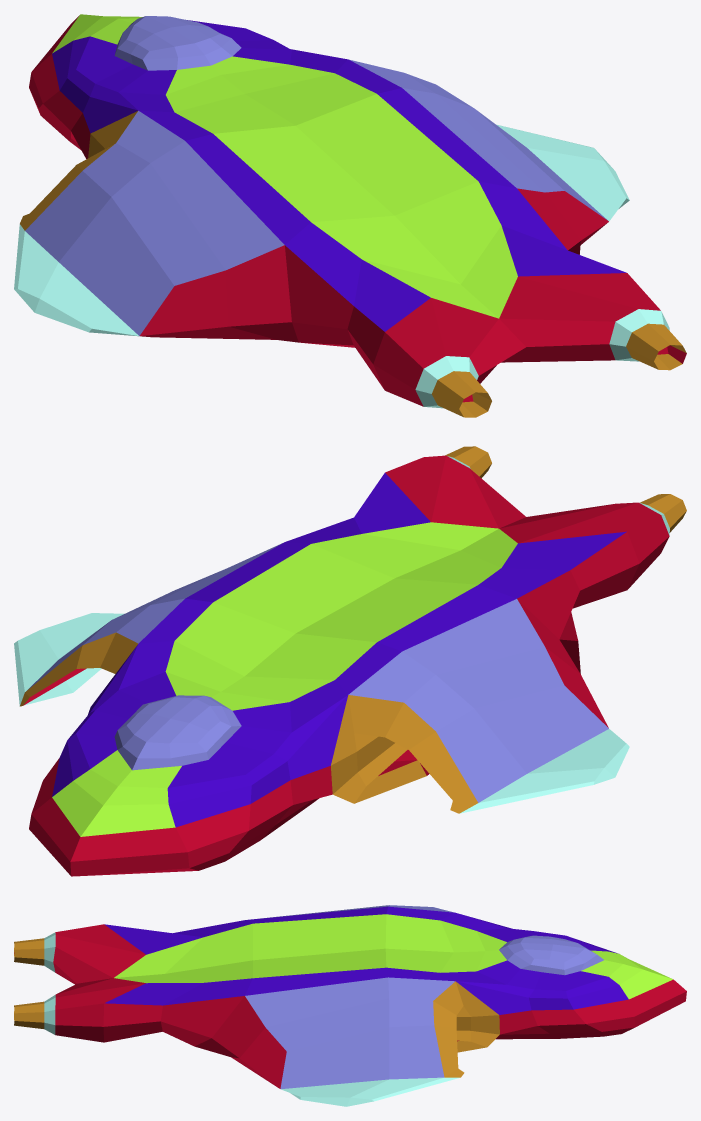
File: EnemyMissileBomber.fbx
The picture shows the model from 3 angles, top to bottom: view 1: azimuth 30°, elevation 25°; view 2: azimuth 150°, elevation 25°; view 3: azimuth 270°, elevation 25°; orthographic projection. The views are drawn at different scales.
Parts seen in each view (by area): view 1: Cube; view 2: Cube; view 3: Cube.
Part boxes in pixels (bbox=[...]): Cube: bbox=[14, 14, 686, 417]; Cube: bbox=[14, 446, 686, 876]; Cube: bbox=[14, 905, 686, 1106].
Bounding box in the file's own units: 1304 × 263 × 1956.
